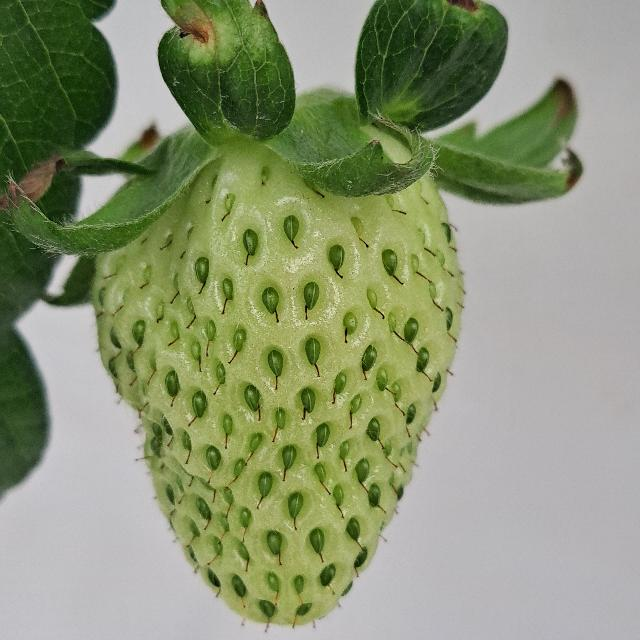Health_25: (90, 123, 463, 624)
